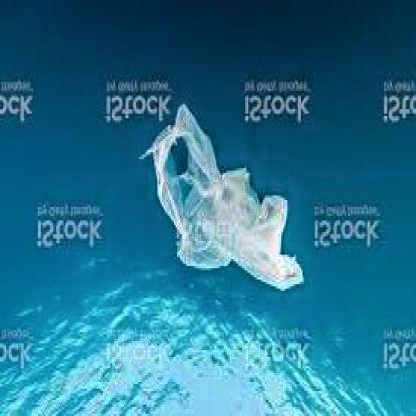pbag: (138, 102, 306, 296)
